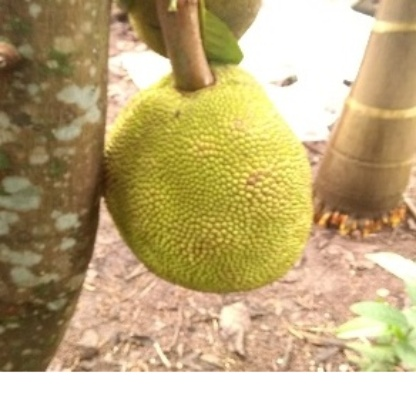mit: (94, 53, 324, 284)
